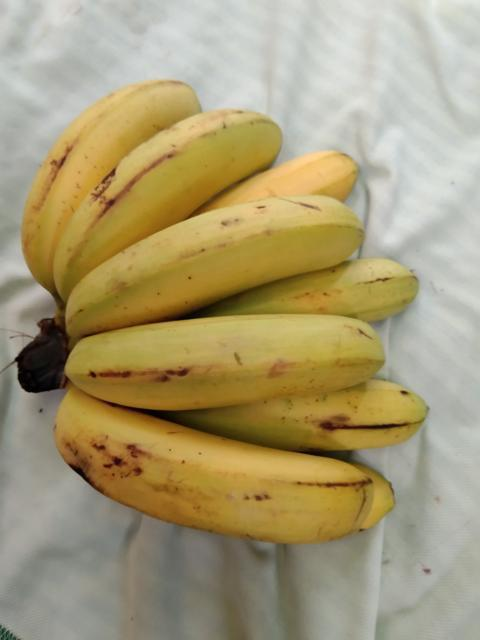ripe: (54, 391, 373, 555), (40, 91, 280, 294), (87, 185, 374, 324), (57, 302, 390, 416)
